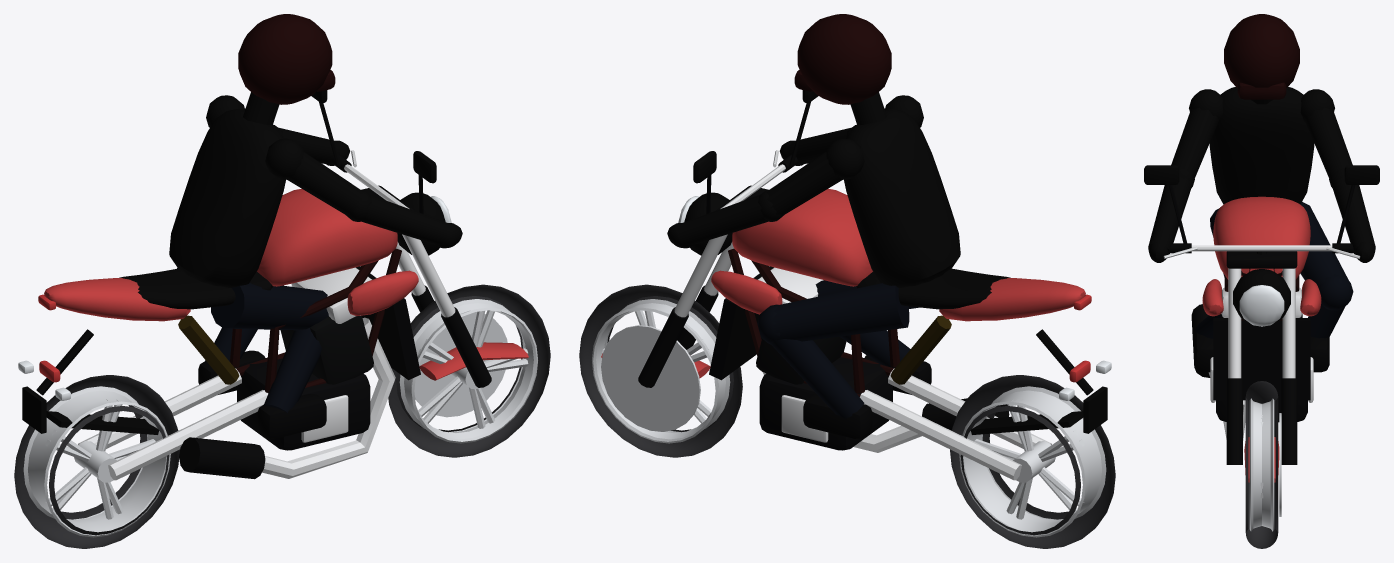
The model's file is m_road.glb.
3 views of the same model, side by side, from view 1: azimuth 30°, elevation 25°; view 2: azimuth 150°, elevation 25°; view 3: azimuth 270°, elevation 25° (orthographic). The views are drawn at different scales.
Parts seen in each view (by area): view 1: WheelR, WheelF, Torso, Tank, Helmet, Thigh.001, Tail, Crankcase, Header, Cylinders, Seat, Swingarm.001 (+23 smaller); view 2: WheelF, WheelR, Torso, Tank, Helmet, Thigh, Tail, Crankcase, Swingarm, Shin, Seat, Radiator (+21 smaller); view 3: Torso, WheelF, Radiator, Tank, Helmet, UpperArm, UpperArm.001, Thigh, Forearm, Forearm.001, HeadLight, ForkLow (+23 smaller).
Part boxes in pixels (bbox=[...]): WheelR: bbox=[14, 375, 179, 548]; WheelF: bbox=[388, 284, 550, 457]; Torso: bbox=[169, 109, 285, 287]; Tank: bbox=[257, 188, 397, 286]; Helmet: bbox=[238, 14, 332, 104]; Thigh.001: bbox=[211, 282, 328, 330]; Tail: bbox=[44, 278, 190, 321]; Crankcase: bbox=[237, 357, 370, 450]; Header: bbox=[262, 317, 395, 478]; Cylinders: bbox=[280, 315, 373, 384]; Seat: bbox=[119, 268, 273, 309]; Swingarm.001: bbox=[108, 390, 268, 480]; WheelF: bbox=[579, 284, 742, 457]; WheelR: bbox=[950, 375, 1115, 548]; Torso: bbox=[844, 109, 960, 287]; Tank: bbox=[732, 188, 872, 286]; Helmet: bbox=[797, 14, 891, 104]; Thigh: bbox=[772, 283, 909, 341]; Tail: bbox=[939, 278, 1085, 321]; Crankcase: bbox=[759, 357, 892, 450]; Swingarm: bbox=[860, 390, 1021, 480]; Shin: bbox=[770, 339, 863, 418]; Seat: bbox=[856, 268, 1010, 309]; Radiator: bbox=[709, 266, 773, 380]; Torso: bbox=[1209, 87, 1314, 204]; WheelF: bbox=[1245, 381, 1281, 548]; Radiator: bbox=[1213, 318, 1310, 400]; Tank: bbox=[1213, 196, 1310, 279]; Helmet: bbox=[1224, 14, 1299, 87]; UpperArm: bbox=[1305, 107, 1352, 178]; UpperArm.001: bbox=[1171, 107, 1218, 178]; Thigh: bbox=[1300, 202, 1348, 289]; Forearm: bbox=[1332, 175, 1375, 254]; Forearm.001: bbox=[1148, 175, 1191, 254]; HeadLight: bbox=[1239, 285, 1284, 326]; ForkLow: bbox=[1281, 378, 1297, 464].
Bounding box in the file's own units: 2.07 × 1.79 × 0.87.
